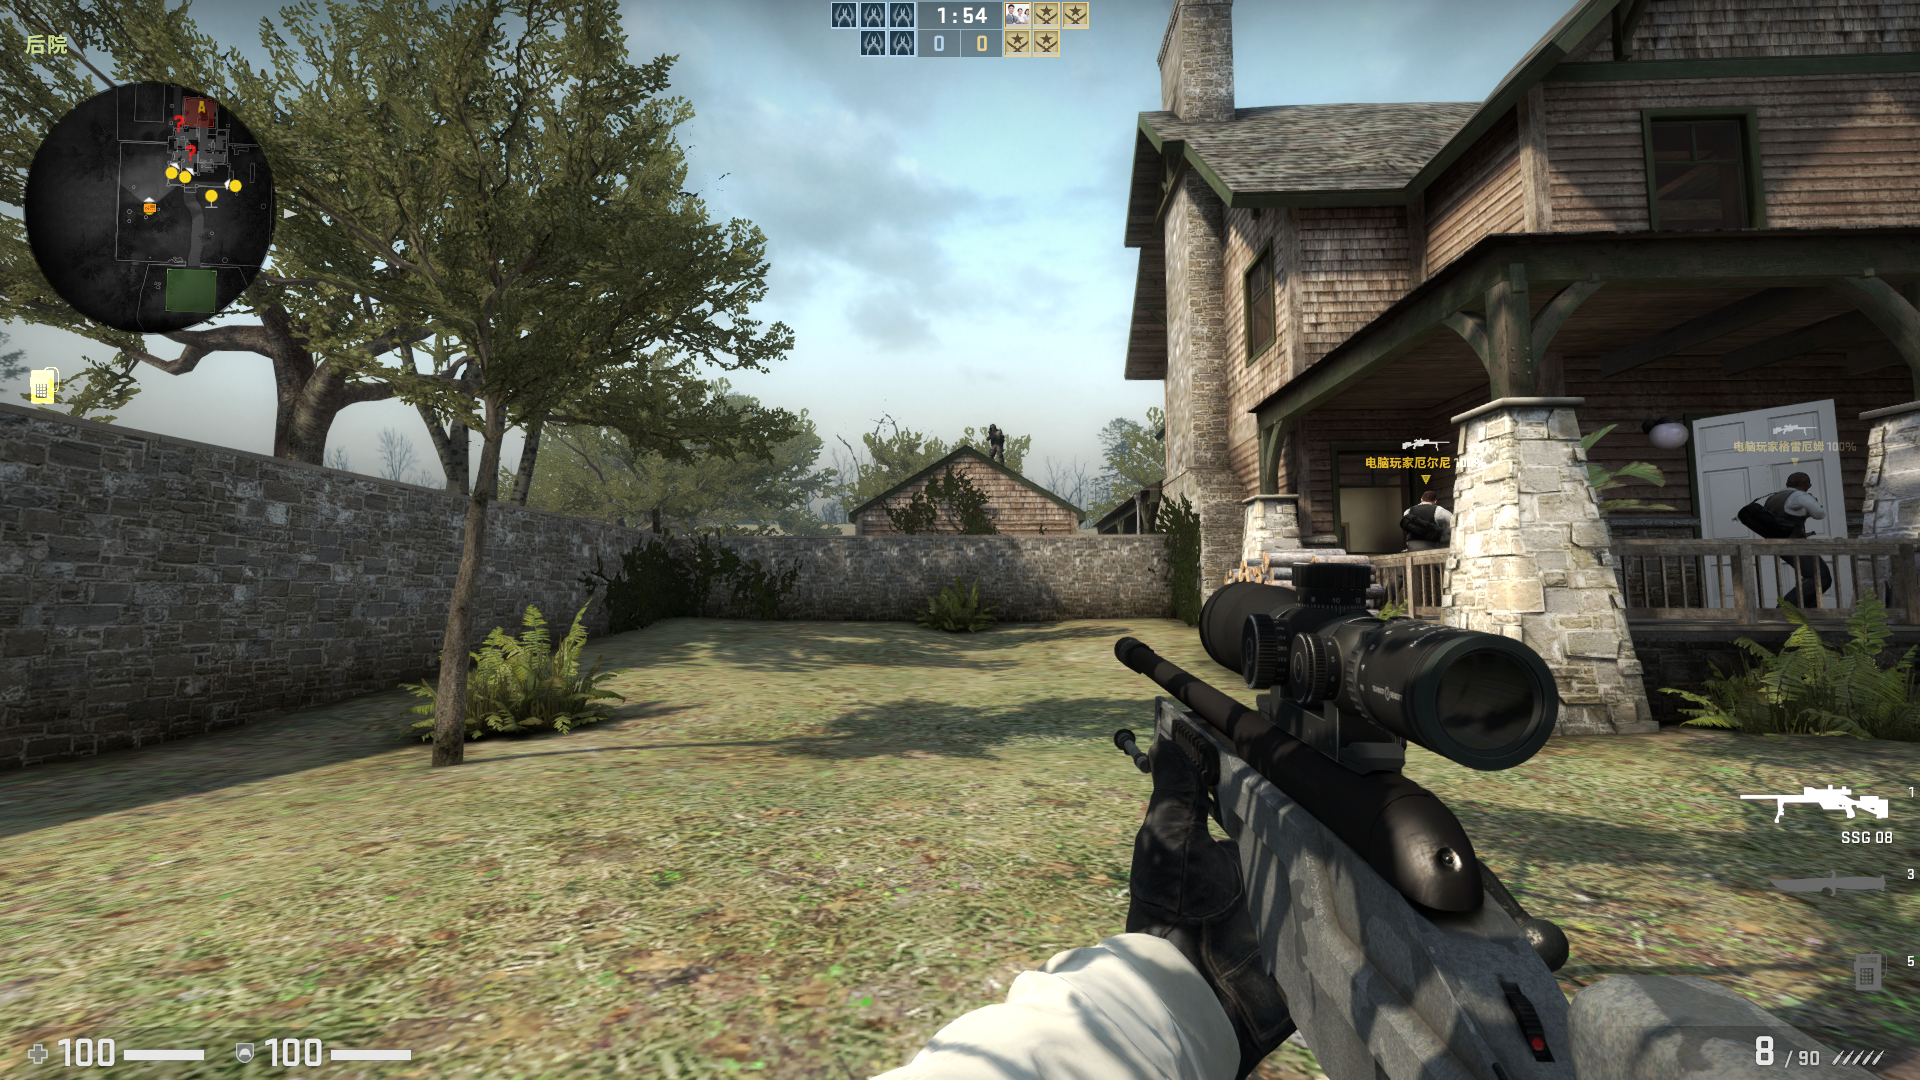person: (1742, 472, 1841, 614), (1402, 492, 1454, 551), (984, 424, 1006, 467)
